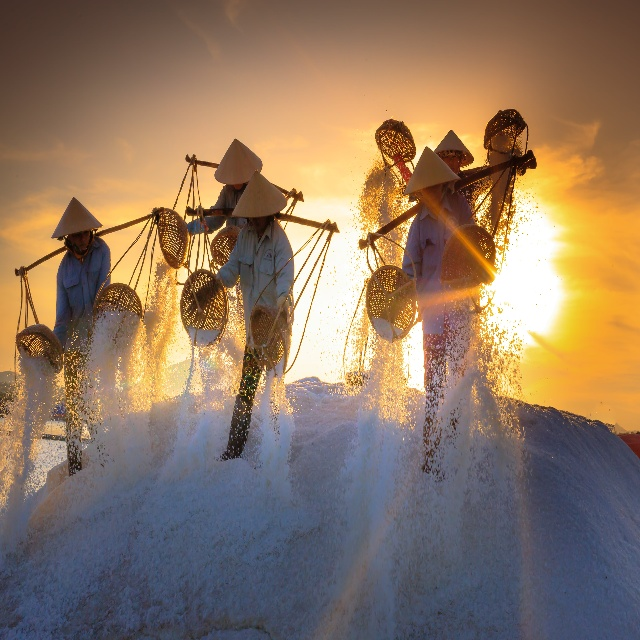Guantes: (276, 297, 294, 336)
